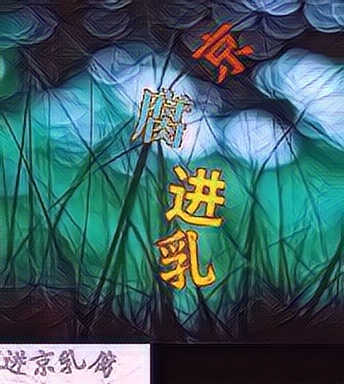B8AF: (130, 81, 193, 147)
BDF8: (163, 162, 226, 228)
BEA9: (192, 18, 255, 84)
C8E9: (153, 229, 216, 295)
